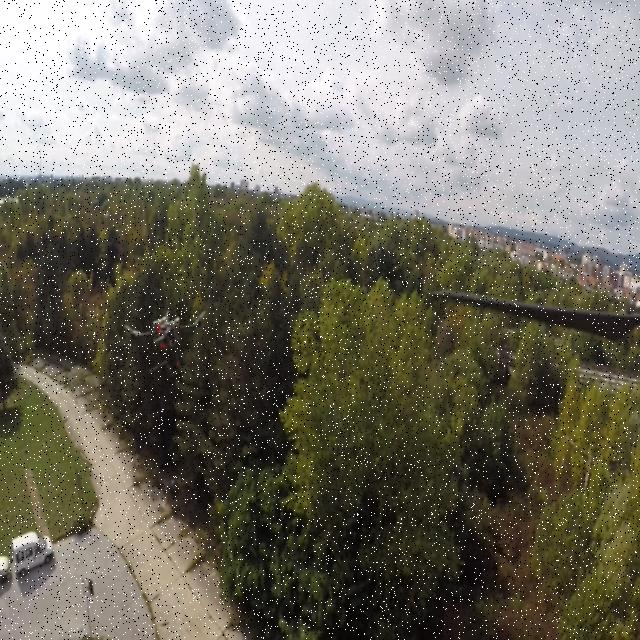UAV: (125, 308, 207, 381)
